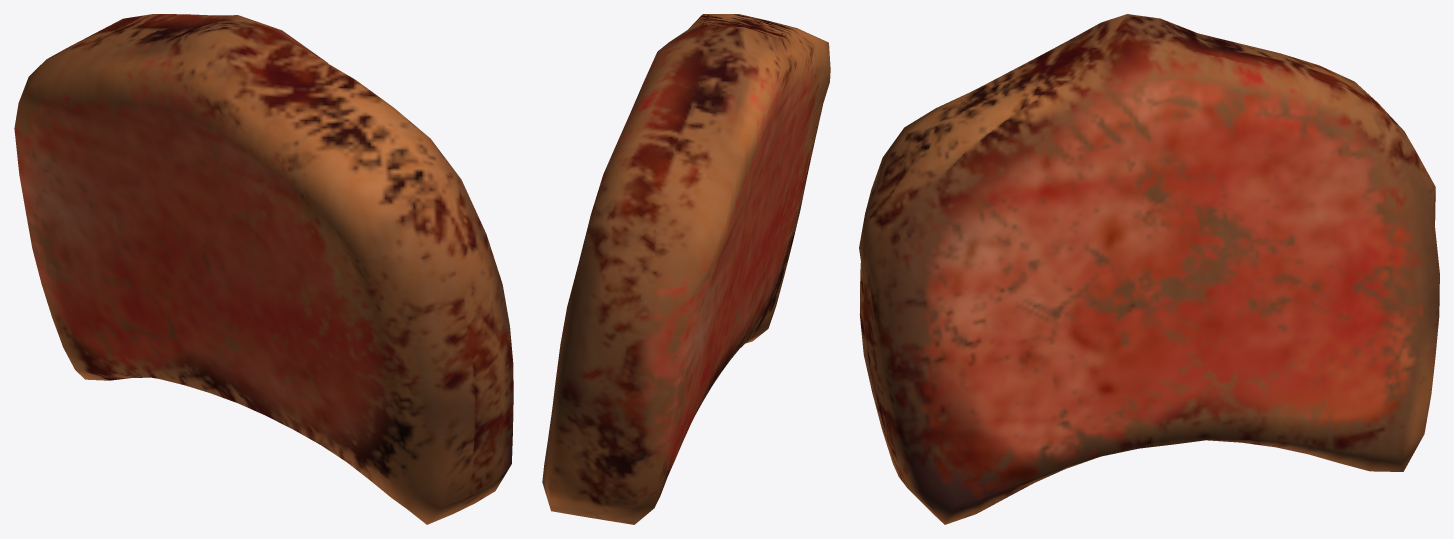
File: SM_FishSlice.fbx
The picture shows the model from 3 angles, left to right: view 1: azimuth 30°, elevation 25°; view 2: azimuth 150°, elevation 25°; view 3: azimuth 270°, elevation 25°; orthographic projection. The views are drawn at different scales.
Visible parts, largest first — view 1: SM_FishSlice_LOD0; view 2: SM_FishSlice_LOD0; view 3: SM_FishSlice_LOD0.
Part boxes in pixels (x1,y1,x2,y2): SM_FishSlice_LOD0: (14,14,513,524); SM_FishSlice_LOD0: (542,14,830,524); SM_FishSlice_LOD0: (859,14,1439,524).
Bounding box in the file's own units: 8.41 × 15.98 × 13.09.
1 material, 1 textured.
